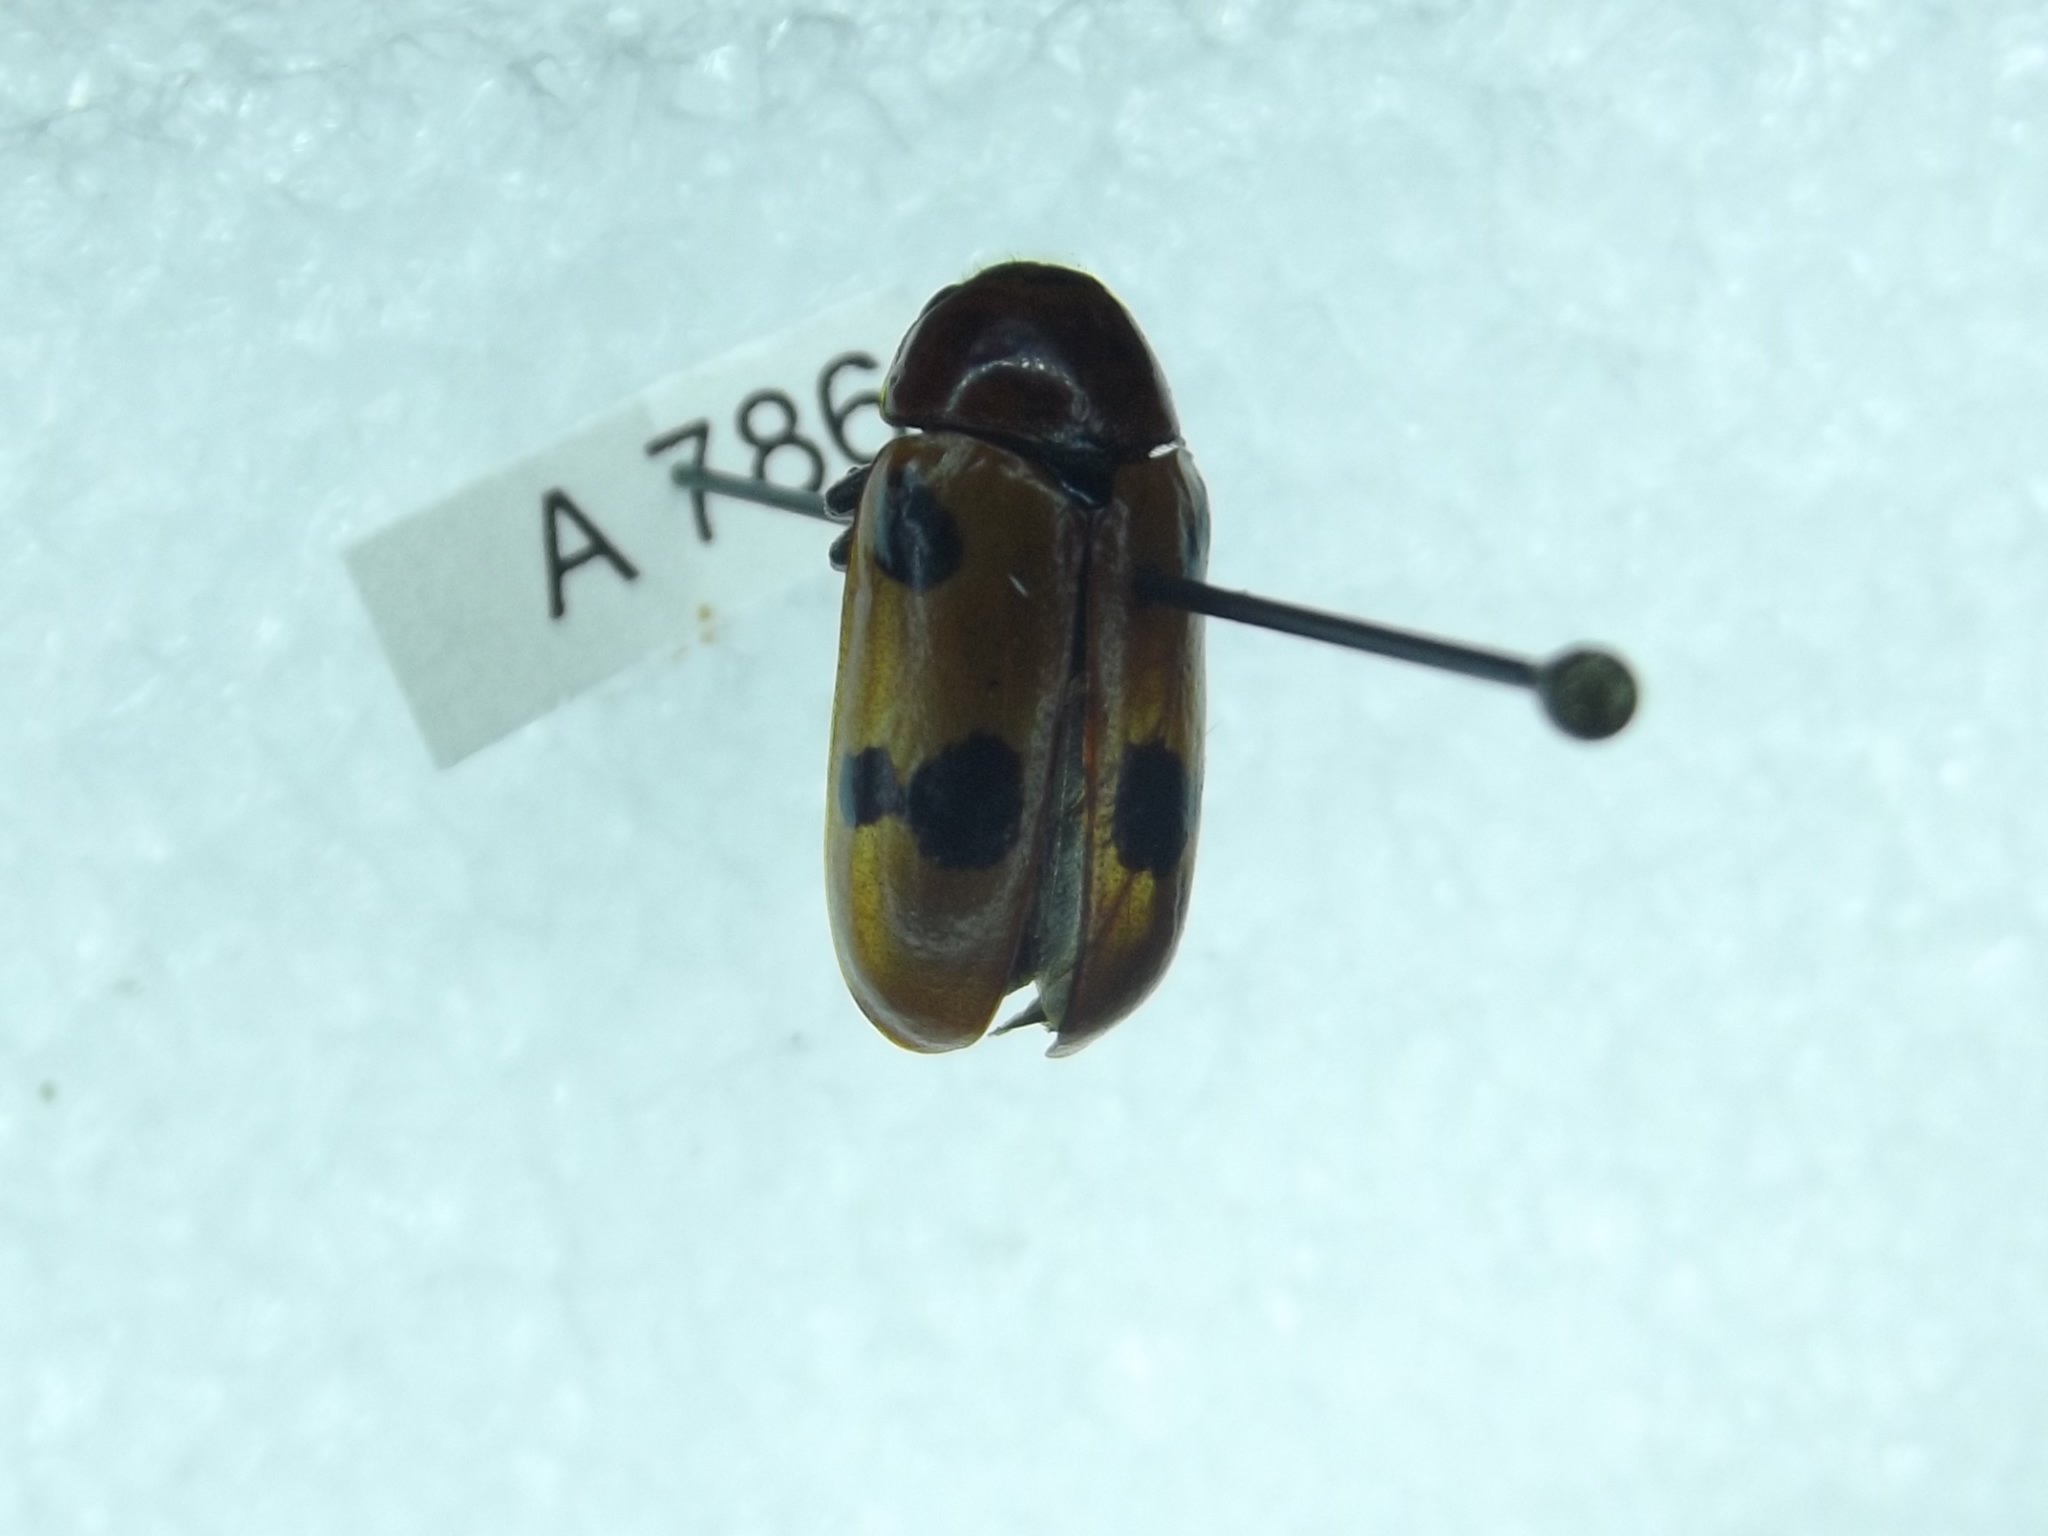Clytra_novempunctata: (801, 252, 1234, 1066)
